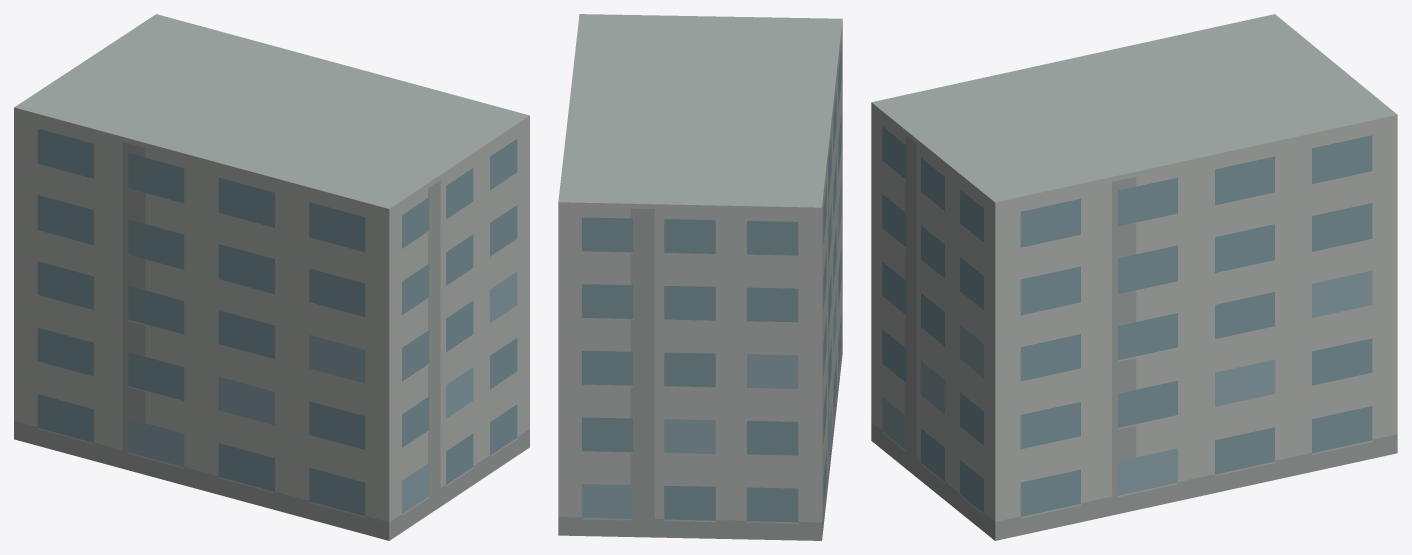
Rendered from survey-upis-33021130.glb.
The picture shows the model from 3 angles, left to right: view 1: azimuth 30°, elevation 25°; view 2: azimuth 150°, elevation 25°; view 3: azimuth 270°, elevation 25°; orthographic projection.
Visible parts, largest first — view 1: survey-upis-33021130.tmp; view 2: survey-upis-33021130.tmp; view 3: survey-upis-33021130.tmp.
Boxes of the visible parts, x1,y1,x2,y2 form: survey-upis-33021130.tmp: (14,14,529,540); survey-upis-33021130.tmp: (558,14,842,540); survey-upis-33021130.tmp: (871,14,1397,540).
Size of the model in its own units: 19.56 by 16.38 by 23.09.
